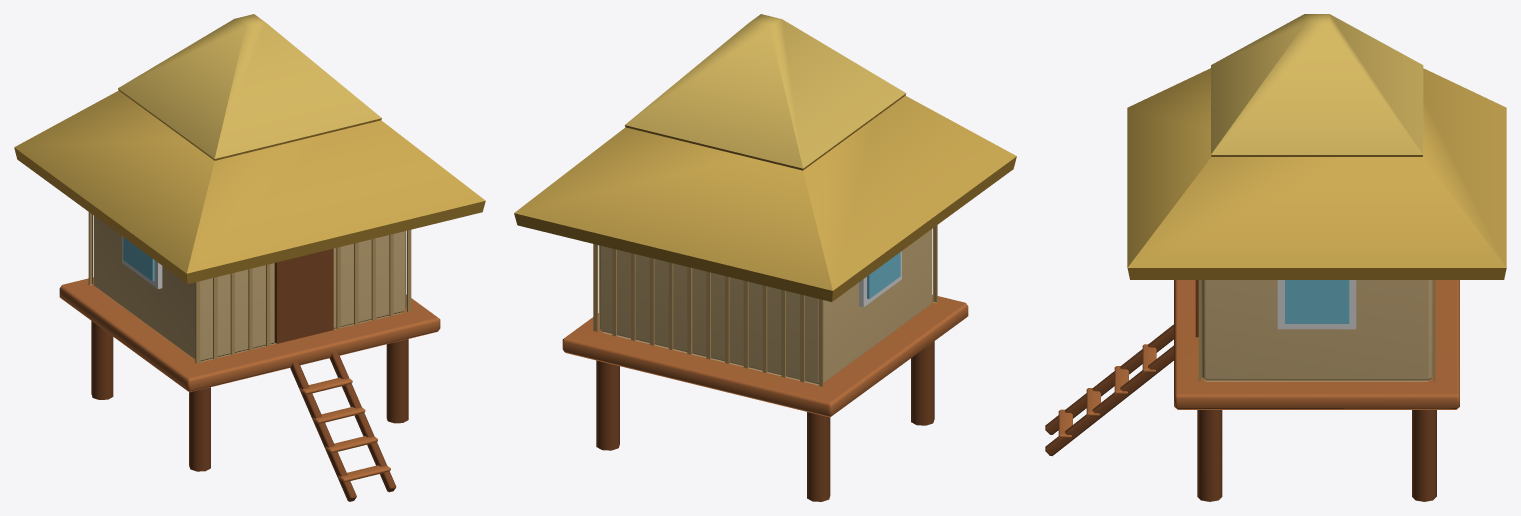
The model's file is tropic-deco3.glb.
The picture shows the model from 3 angles, left to right: view 1: azimuth 30°, elevation 25°; view 2: azimuth 150°, elevation 25°; view 3: azimuth 270°, elevation 25°; orthographic projection. The views are drawn at different scales.
Visible parts, largest first — view 1: tropic-deco3; view 2: tropic-deco3; view 3: tropic-deco3.
Part boxes in pixels (x1=…): tropic-deco3: x1=14, y1=14, x2=485, y2=501; tropic-deco3: x1=514, y1=14, x2=1016, y2=501; tropic-deco3: x1=1045, y1=14, x2=1506, y2=501.
Size of the model in its own units: 2.12 by 2.62 by 2.58.
